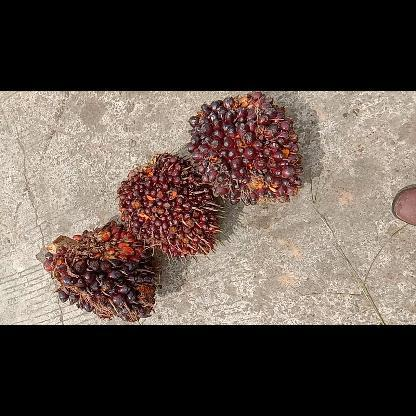Kurang masak: (187, 91, 303, 204), (114, 154, 224, 258)
TBS masak: (44, 224, 156, 320)
